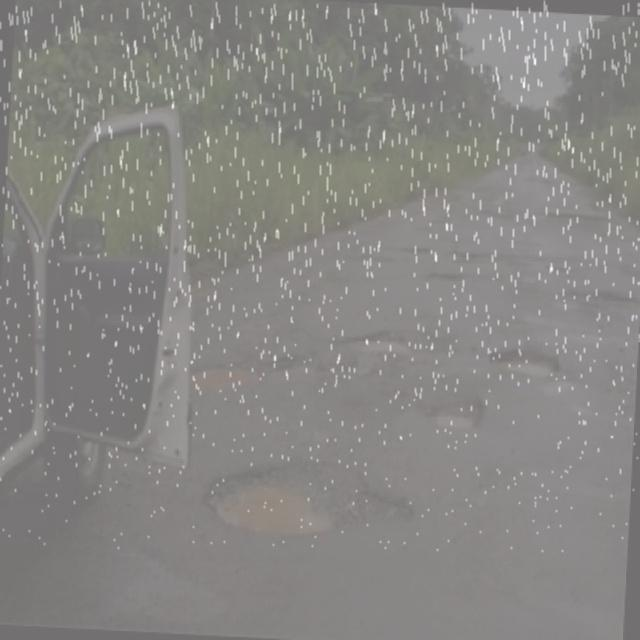Pothole: (198, 448, 416, 536), (320, 321, 433, 366), (189, 354, 304, 398), (477, 336, 567, 381), (414, 396, 498, 442), (553, 282, 640, 316), (456, 250, 560, 271), (409, 264, 470, 293), (536, 206, 610, 228), (392, 247, 438, 254)
